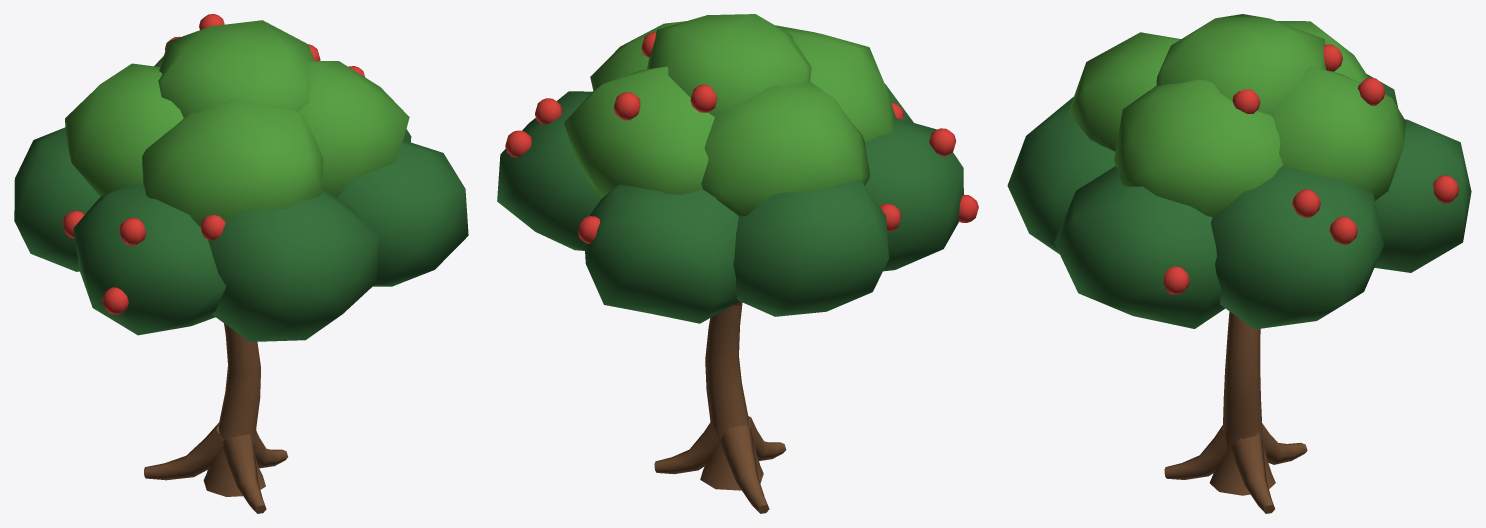
Rendered from apple_tree.glb.
3 views of the same model, side by side, from view 1: azimuth 30°, elevation 25°; view 2: azimuth 150°, elevation 25°; view 3: azimuth 270°, elevation 25° (orthographic). The views are drawn at different scales.
Visible parts, largest first — view 1: Apple crown, Apple trunk, Apples; view 2: Apple crown, Apple trunk, Apples; view 3: Apple crown, Apple trunk, Apples.
Boxes of the visible parts, x1=… form: Apple crown: x1=14, y1=20, x2=468, y2=341; Apple trunk: x1=144, y1=323, x2=287, y2=513; Apples: x1=62, y1=14, x2=364, y2=314; Apple crown: x1=497, y1=14, x2=963, y2=323; Apple trunk: x1=654, y1=302, x2=786, y2=513; Apples: x1=505, y1=32, x2=978, y2=243; Apple crown: x1=1007, y1=14, x2=1471, y2=329; Apple trunk: x1=1164, y1=311, x2=1307, y2=513; Apples: x1=1163, y1=44, x2=1459, y2=294.
Size of the model in its own units: 3.09 by 3.48 by 3.21.
